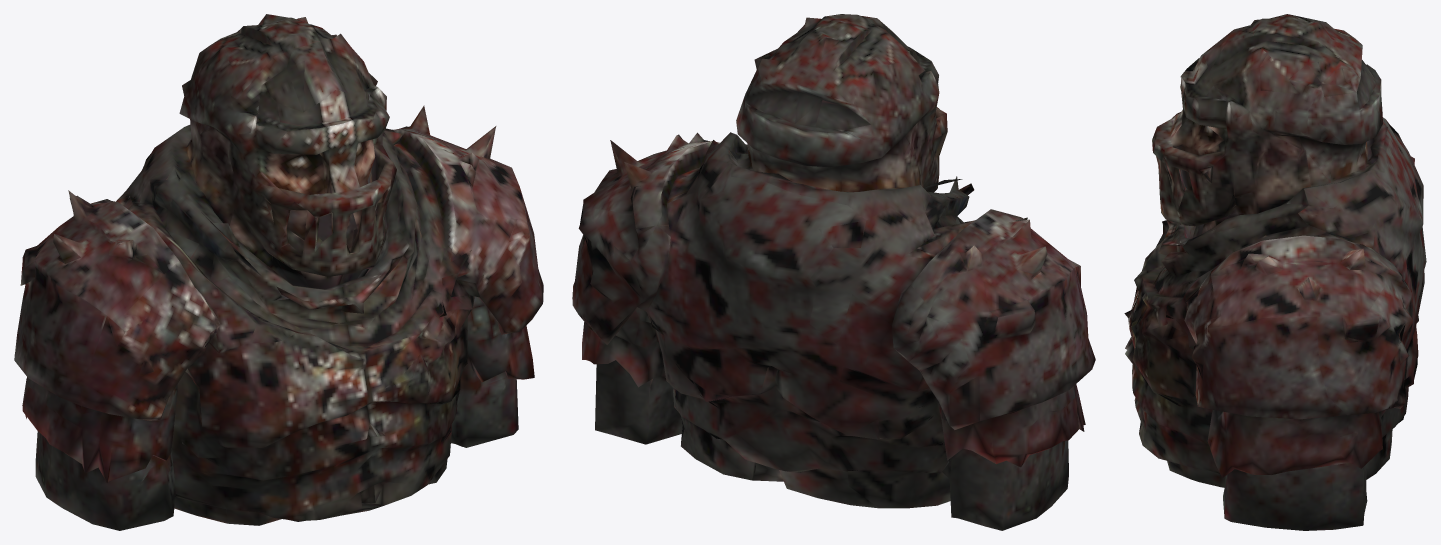
Rendered from brute.glb.
3 views of the same model, side by side, from view 1: azimuth 30°, elevation 25°; view 2: azimuth 150°, elevation 25°; view 3: azimuth 270°, elevation 25° (orthographic). The views are drawn at different scales.
Parts seen in each view (by area): view 1: Mesh_0; view 2: Mesh_0; view 3: Mesh_0.
Boxes of the visible parts, box(x1,y1,x2,y2) form: Mesh_0: box(14, 14, 543, 530); Mesh_0: box(572, 14, 1095, 530); Mesh_0: box(1124, 14, 1426, 530).
Bounding box in the file's own units: 1.92 × 1.64 × 1.09.
Materials: 1 (1 with a texture image).
